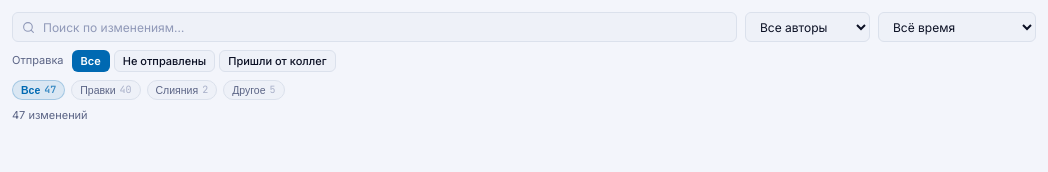
Scenario: VcsHistoryFilters › types into the search box and resets everything with one button
Expected: the button "Сбросить" is not shown
Type "ри" into the search field labelled "Поиск по изменениям" at coordinates (374, 27), box [12,12,737,42]
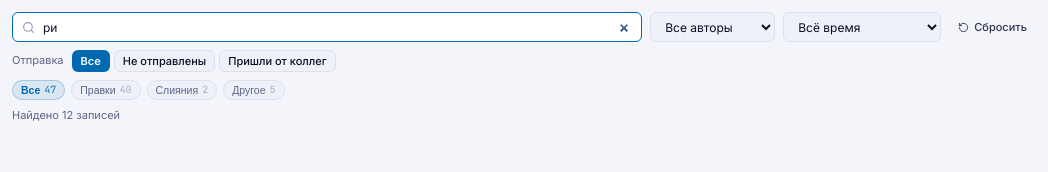
Click the button "Сбросить" at coordinates (993, 27), box [949,16,1036,38]
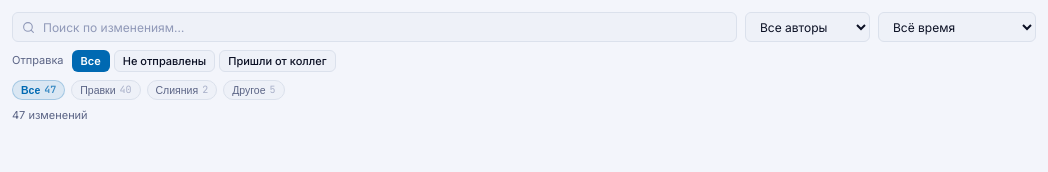
Result: the button "Сбросить" is gone
